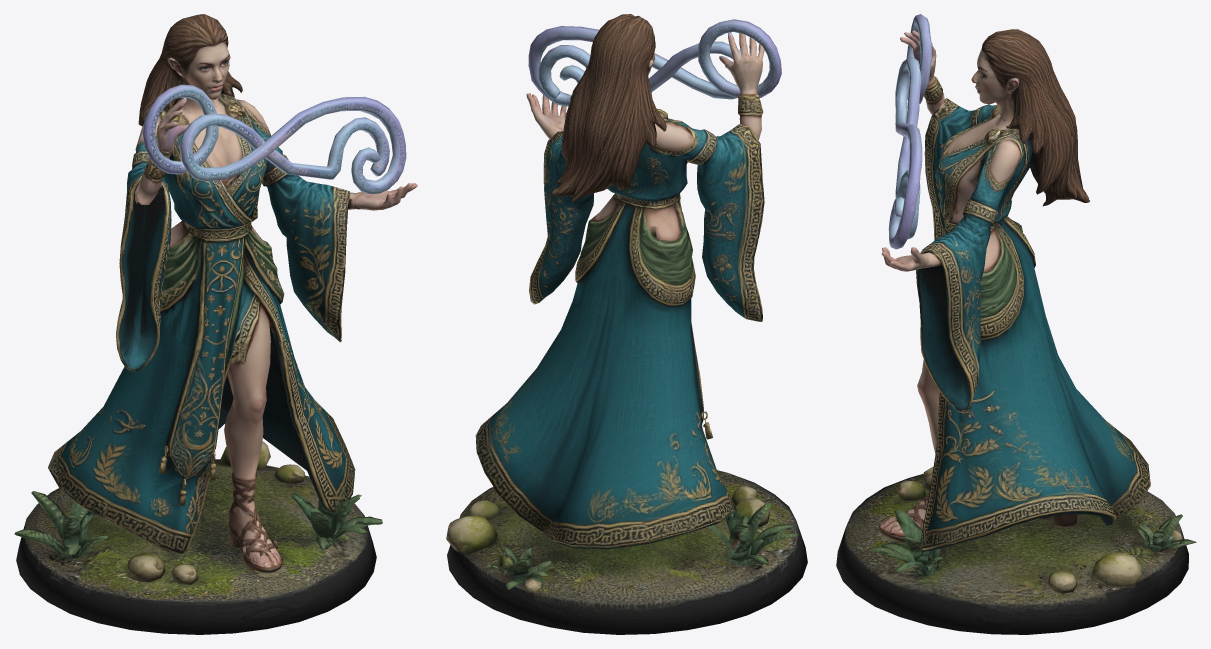
The model's file is enchanter_def_female.glb.
3 views of the same model, side by side, from view 1: azimuth 30°, elevation 25°; view 2: azimuth 150°, elevation 25°; view 3: azimuth 270°, elevation 25° (orthographic). The views are drawn at different scales.
Parts seen in each view (by area): view 1: tripo_node_e5495e5f-9084-4bbc-a74b-fbb304aad9e9; view 2: tripo_node_e5495e5f-9084-4bbc-a74b-fbb304aad9e9; view 3: tripo_node_e5495e5f-9084-4bbc-a74b-fbb304aad9e9.
Part boxes in pixels (<box>): tripo_node_e5495e5f-9084-4bbc-a74b-fbb304aad9e9: <box>14,14,417,634</box>; tripo_node_e5495e5f-9084-4bbc-a74b-fbb304aad9e9: <box>446,14,807,634</box>; tripo_node_e5495e5f-9084-4bbc-a74b-fbb304aad9e9: <box>836,14,1196,634</box>.
Size of the model in its own units: 0.6363 by 0.998 by 0.6185.
Materials: 1 (1 with a texture image).
